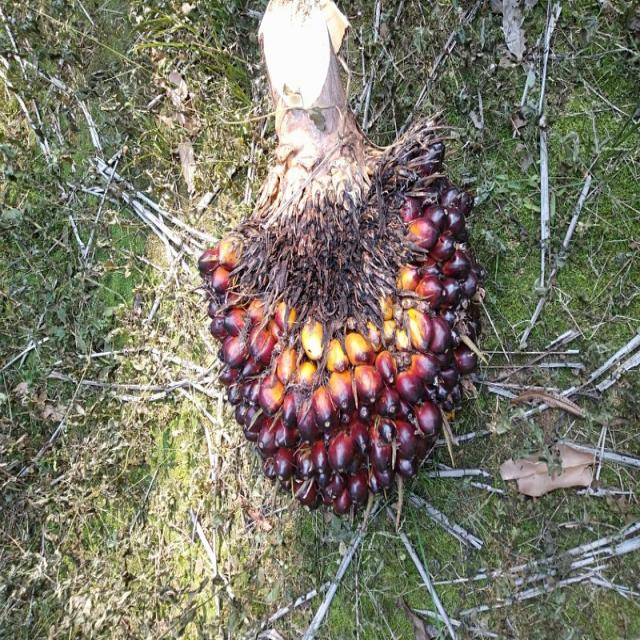fraksi 1: (183, 108, 511, 526)
